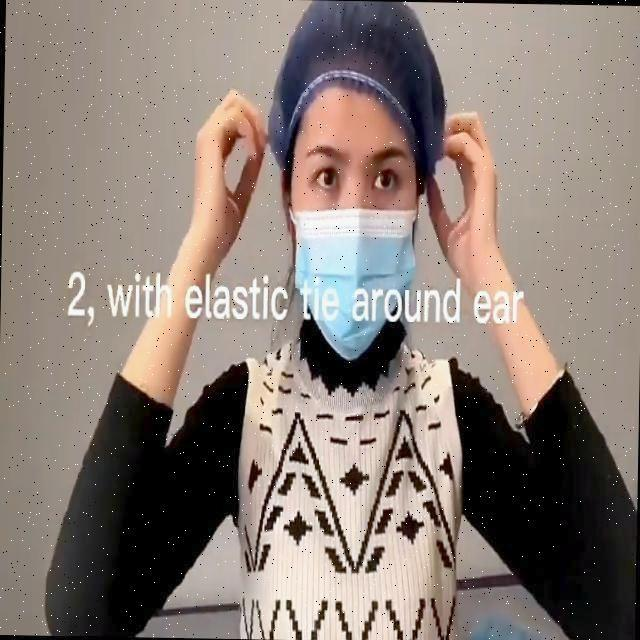gloves: (270, 0, 444, 136)
mask: (286, 210, 408, 346)
no_apron: (172, 83, 276, 245), (437, 106, 507, 272)
